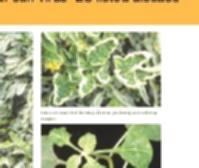Tomato leaf yellow virus: (114, 50, 158, 91), (115, 129, 160, 168), (87, 35, 121, 66), (50, 70, 78, 105), (74, 132, 101, 157), (75, 70, 99, 97)
